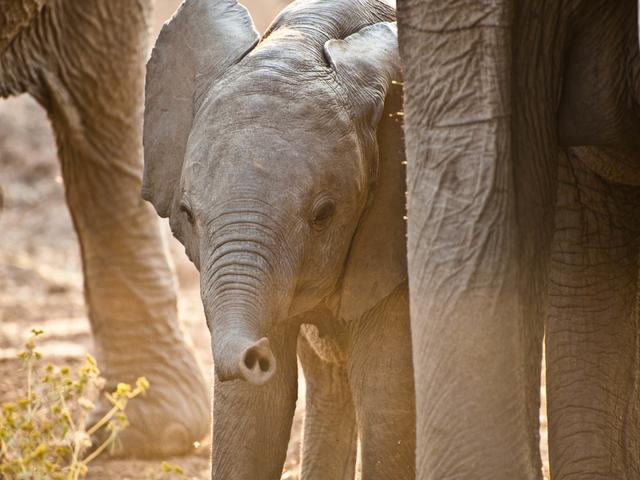elephant: (116, 10, 430, 468)
